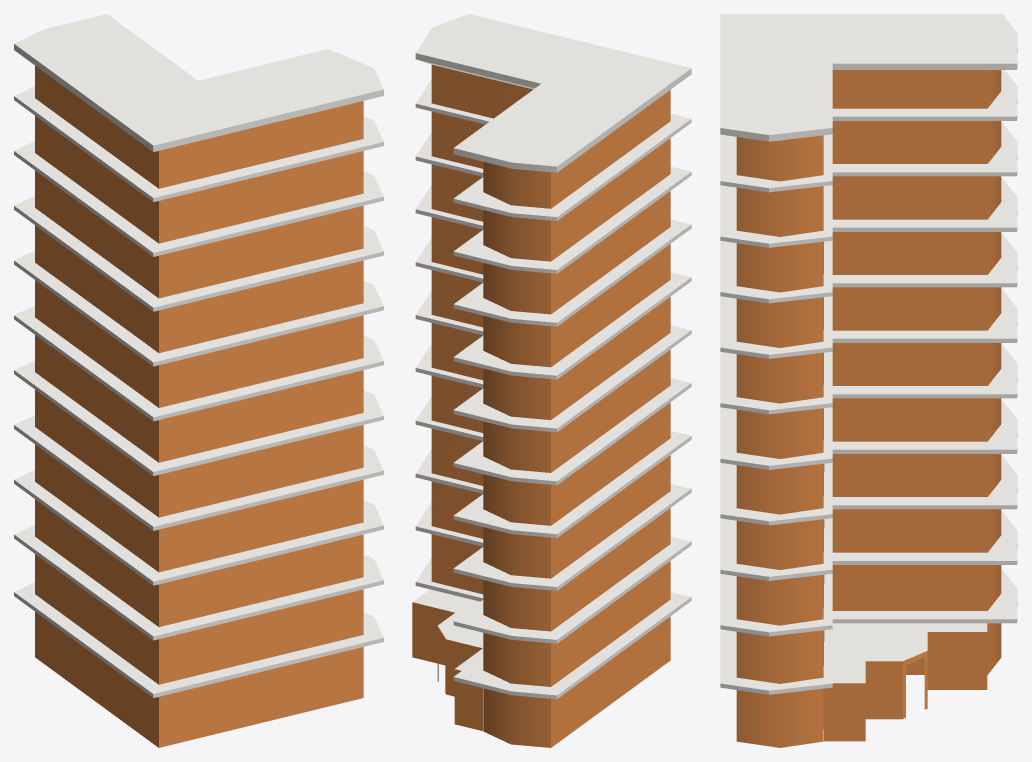
Rendered from Building_2_Gold.glb.
3 views of the same model, side by side, from view 1: azimuth 30°, elevation 25°; view 2: azimuth 150°, elevation 25°; view 3: azimuth 270°, elevation 25° (orthographic). The views are drawn at different scales.
Parts seen in each view (by area): view 1: pPlane3; view 2: pPlane3; view 3: pPlane3.
Part boxes in pixels (x1,y1,x2,y2): pPlane3: (14,14,383,747); pPlane3: (412,14,691,747); pPlane3: (720,14,1017,747).
Bounding box in the file's own units: 50.39 × 120 × 52.34.
